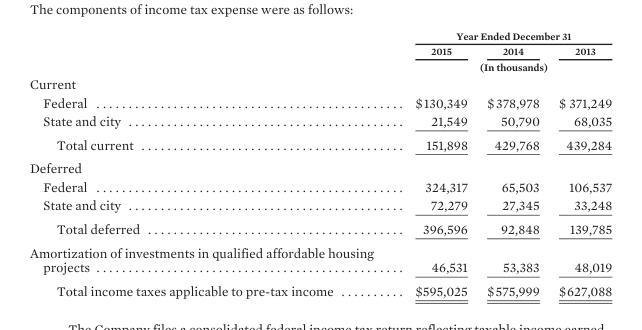table: (28, 29, 611, 298)
table column: (28, 29, 393, 298), (393, 29, 476, 298), (476, 29, 548, 298), (548, 29, 611, 298)
table column header: (28, 29, 611, 74)
table projected row header: (28, 156, 611, 177), (28, 74, 611, 92)
table row: (28, 240, 611, 278), (28, 132, 611, 156), (28, 216, 611, 240), (28, 111, 611, 132), (28, 156, 611, 177), (28, 195, 611, 216), (28, 278, 611, 298), (28, 92, 611, 111), (28, 74, 611, 92), (28, 177, 611, 195), (28, 58, 611, 74), (28, 43, 611, 58), (28, 29, 611, 43)
table spanning cell: (393, 58, 611, 74), (393, 29, 611, 43)
